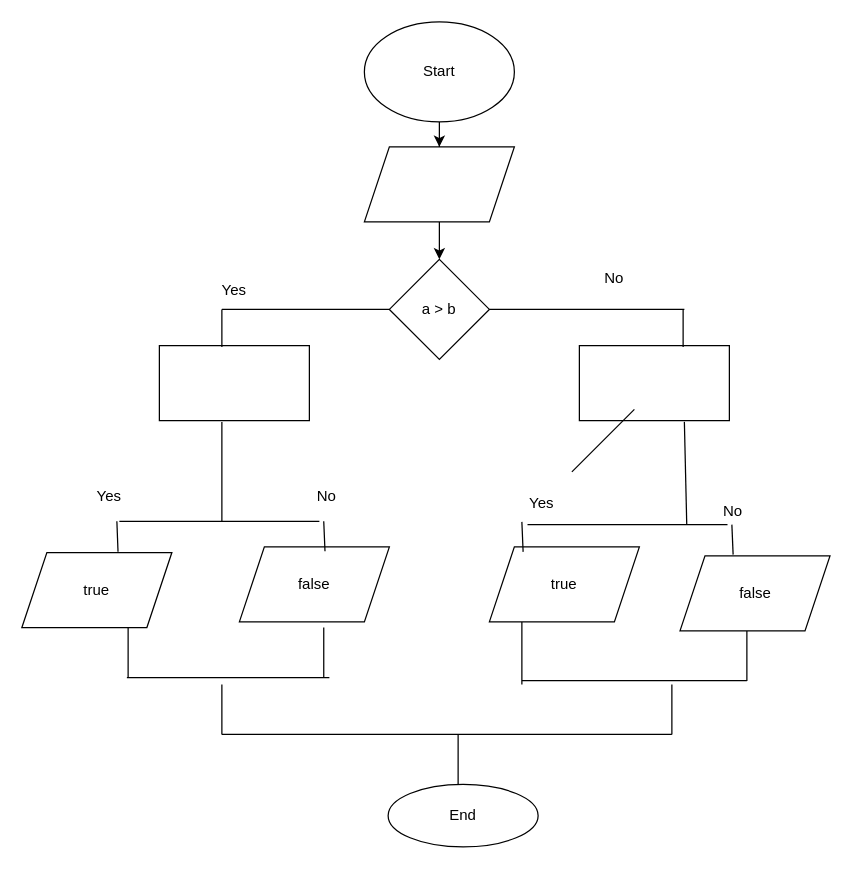
Image size: 853x869. Some labels were removed from this diagram. Here are the shapes that lost their labels. From the top down, the centre of each, then its label:
At (438,184): "Write a,b".
At (233,382): "a / b= b".
At (653,382): "b / a = a".
